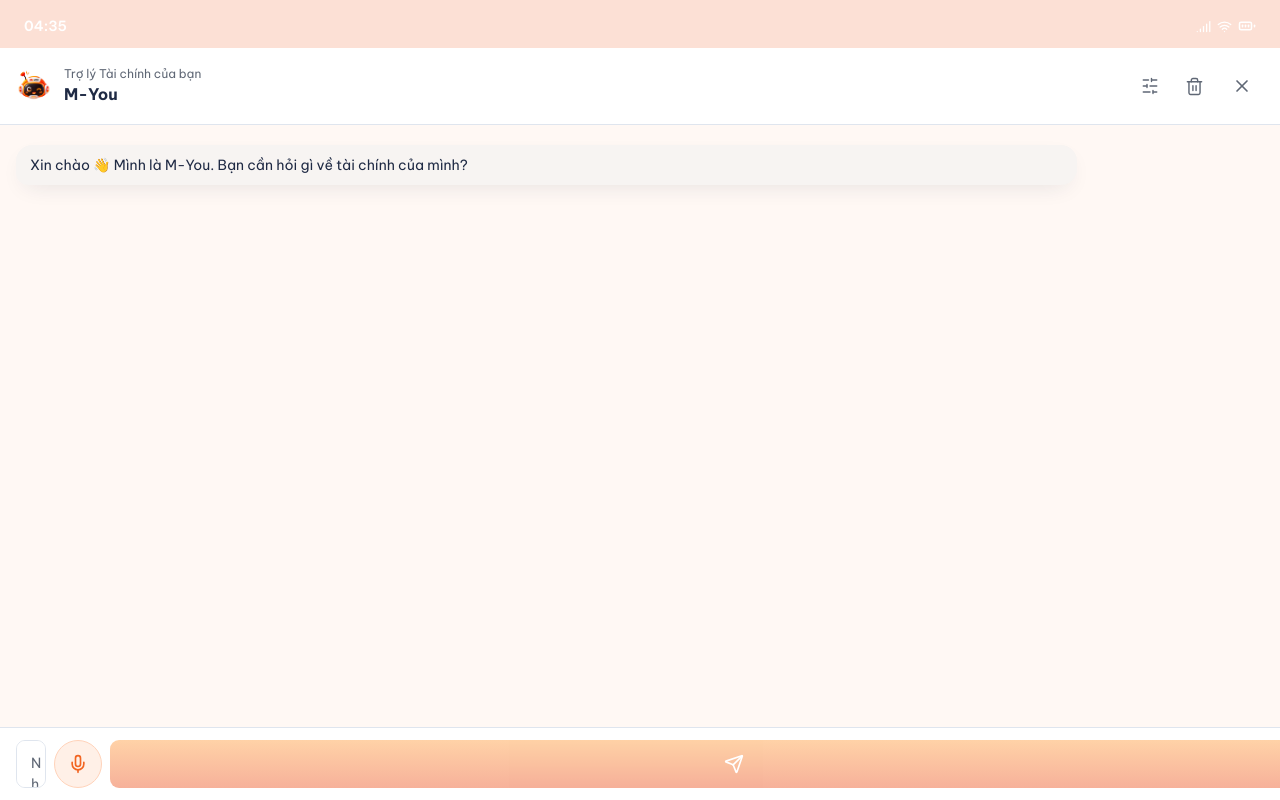
Test: M-You voice composer › restores the typed draft when streaming fails
The width and height of the screenshot is (1280, 800).
Expected: the button named "Nhập bằng giọng nói" is enabled, [54,740,102,788]
Type "Bản nháp" into the text box with placeholder "Nhắn tin cho M-You…" at (31,764), box [16,740,46,788]
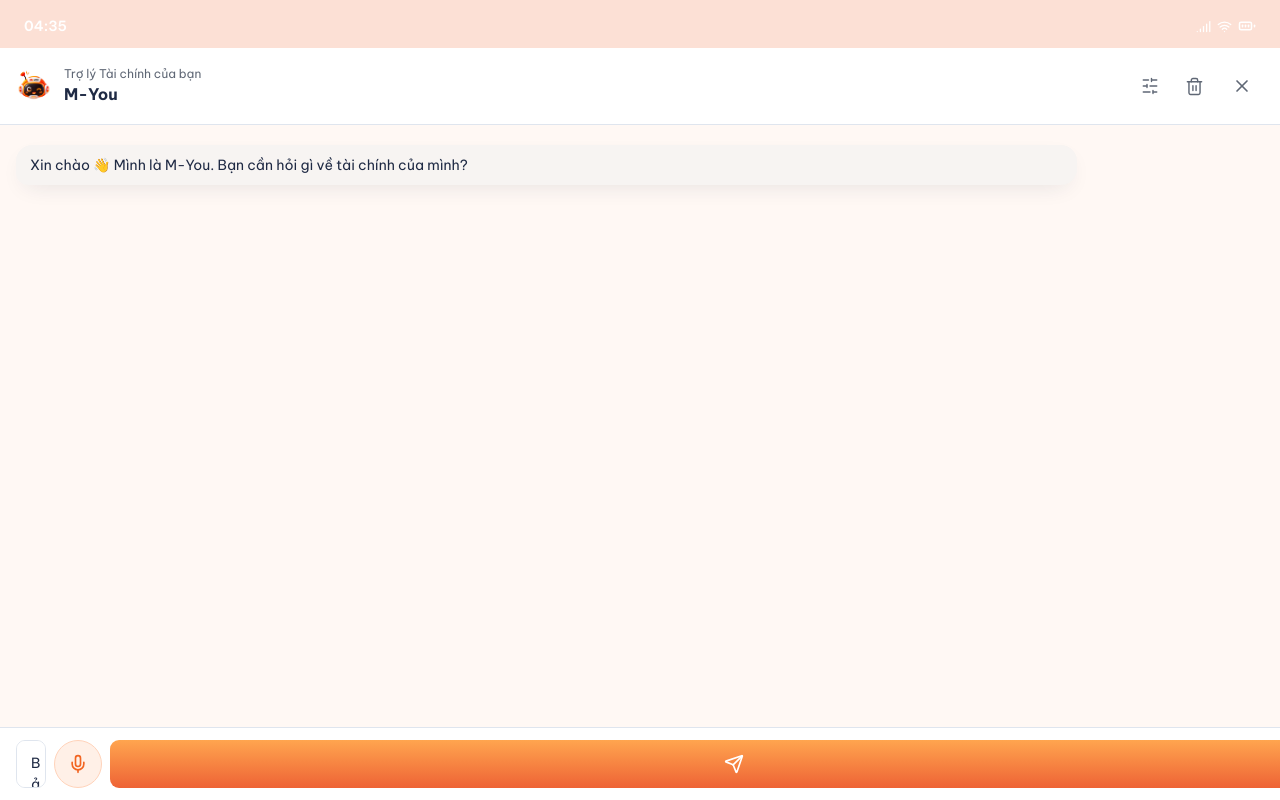
Click the button named "Nhập bằng giọng nói" at (78,764), box [54,740,102,788]
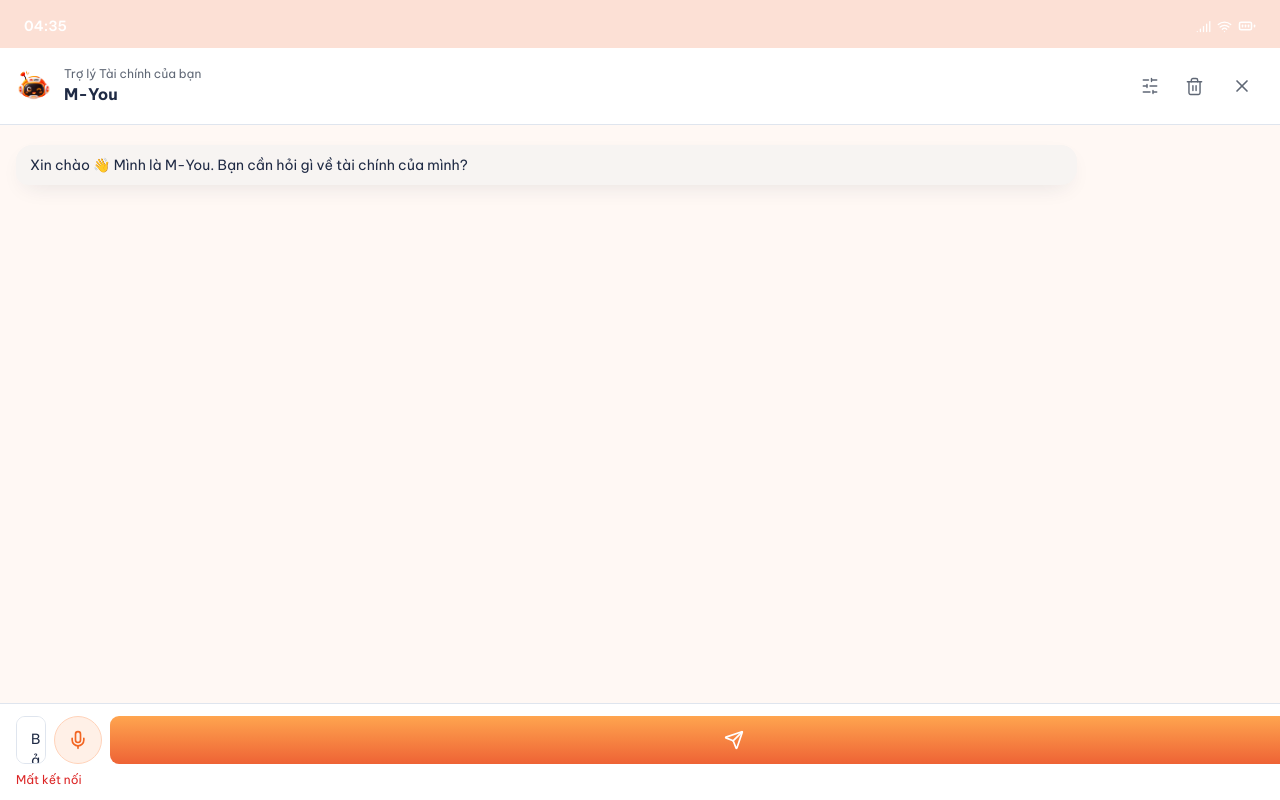
Now the message reads "Mất kết nối", box [16,772,82,787]
